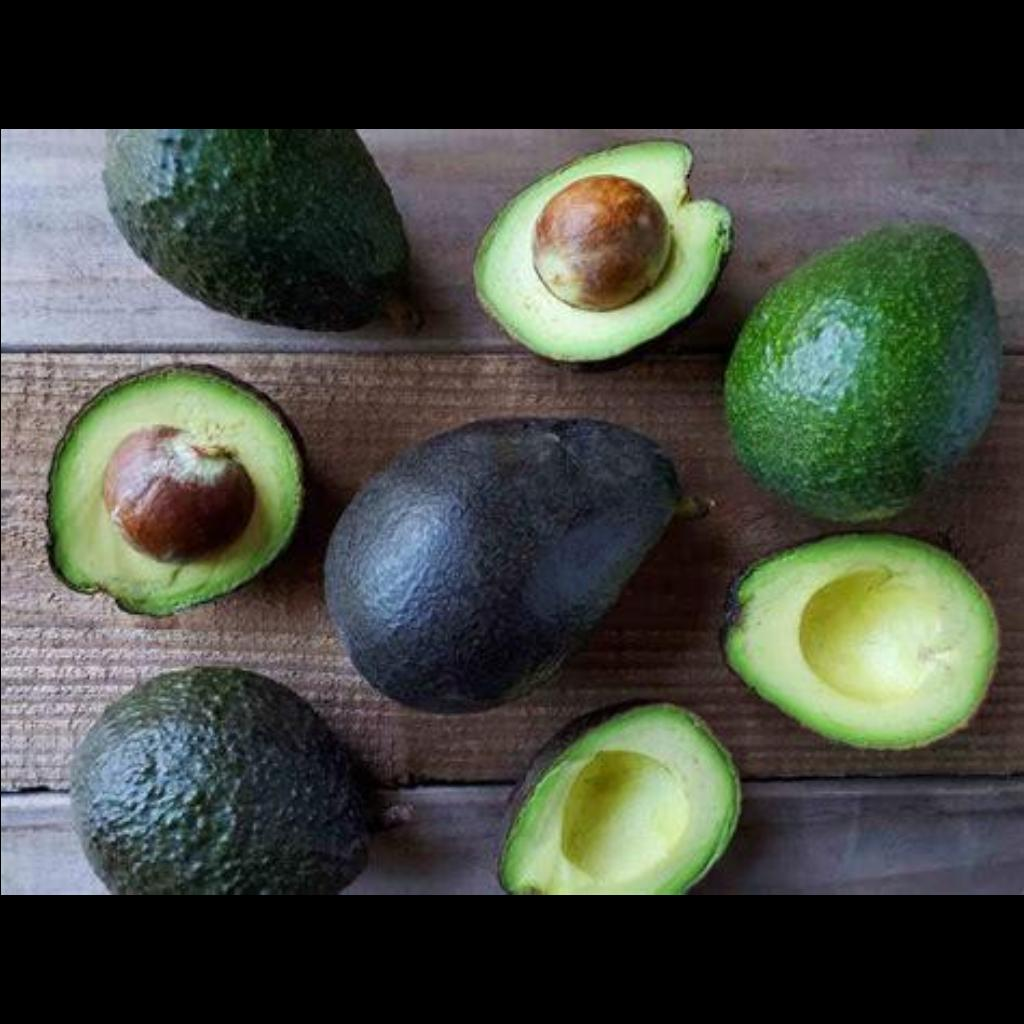Healthy: (730, 220, 1010, 526), (34, 350, 304, 636), (691, 534, 1024, 746), (436, 160, 742, 364), (483, 724, 753, 896)
